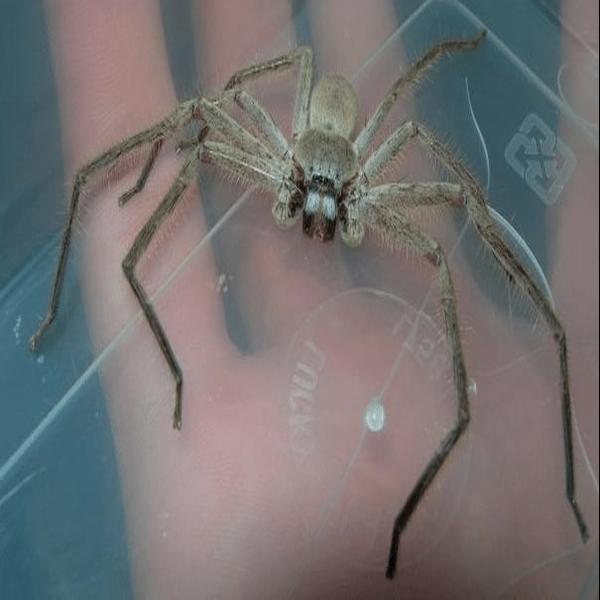Huntsman Spider: (38, 35, 583, 561)
